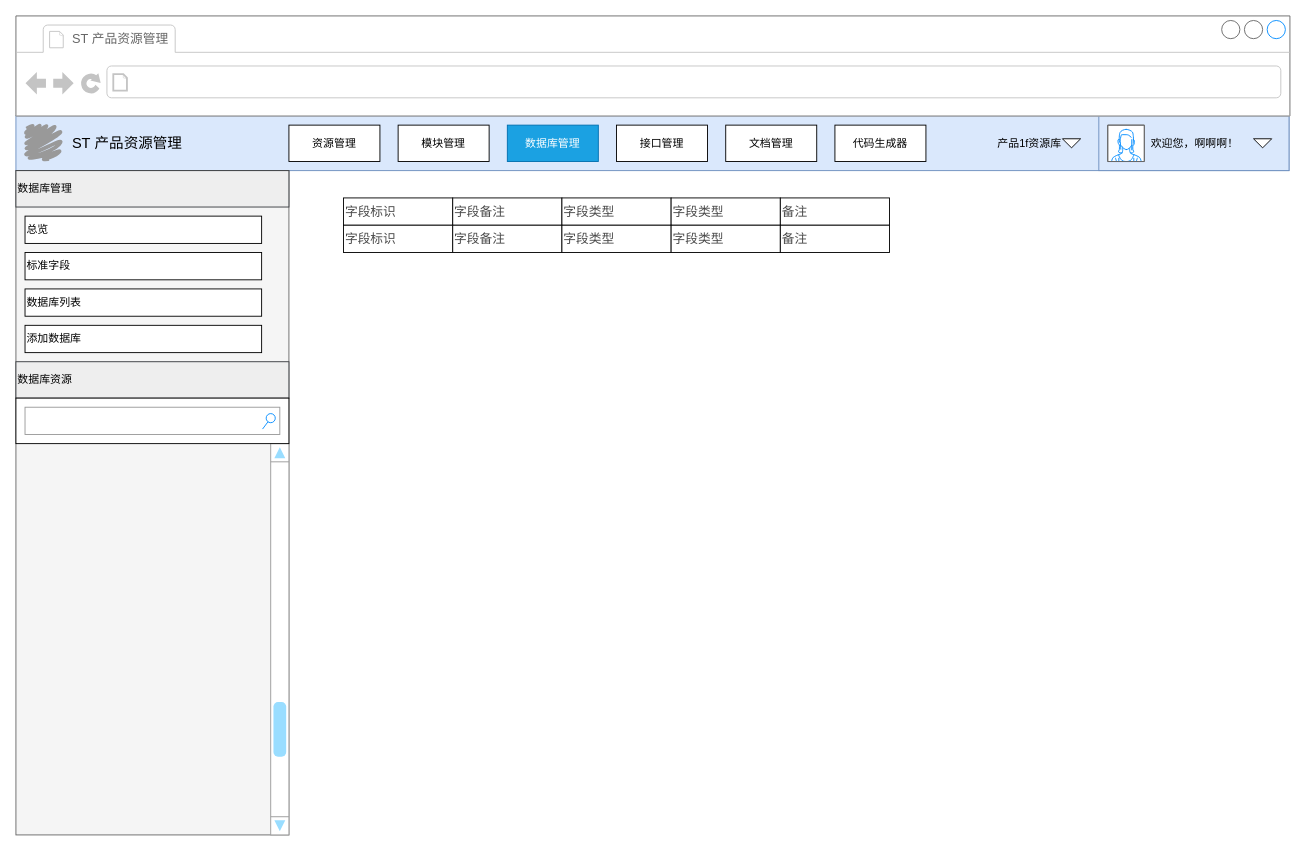
Image size: 1306x851. Some labels were removed from this diagram. Each missing label, with the box of its shape:
https://www.draw.io: (133, 70, 362, 94)
Search: (24, 406, 280, 435)
